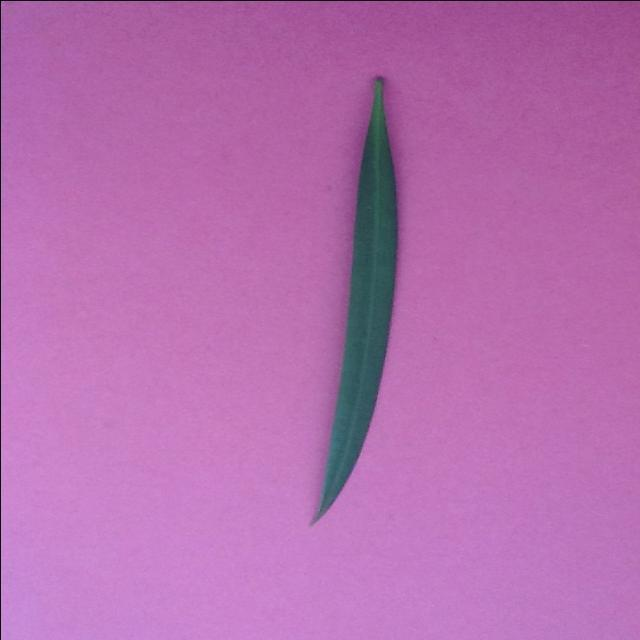foliage: (298, 73, 400, 527)
